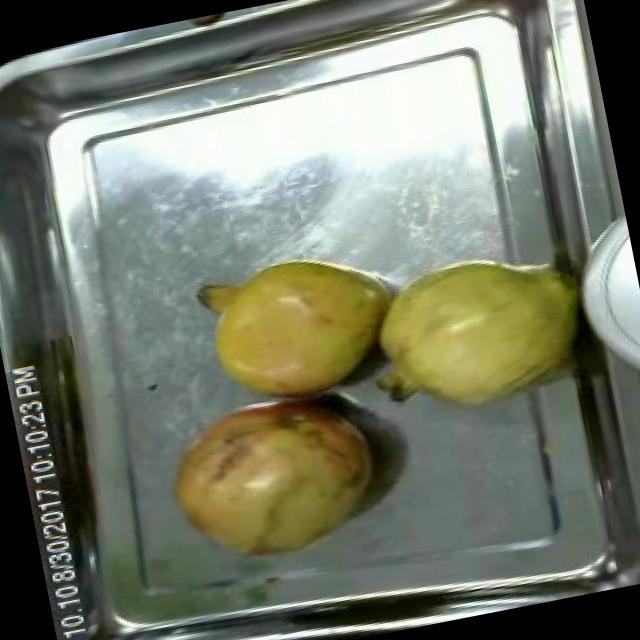fruit: (348, 228, 610, 440), (144, 374, 400, 582), (182, 235, 409, 425)
